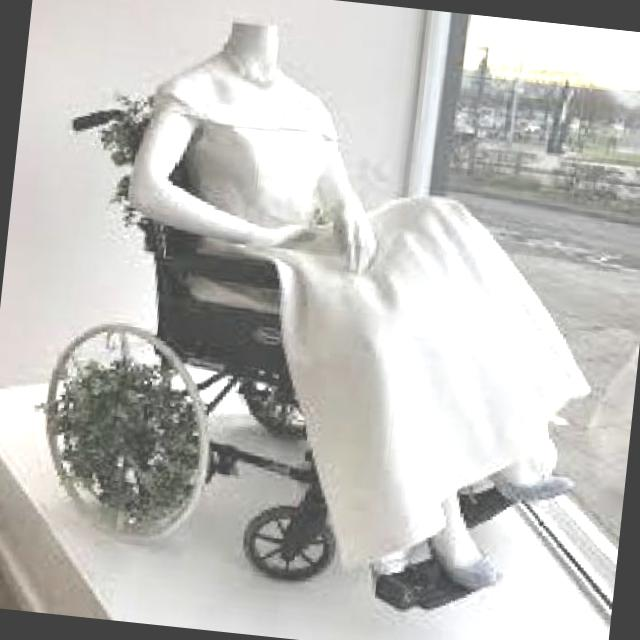Person: (75, 0, 640, 633)
